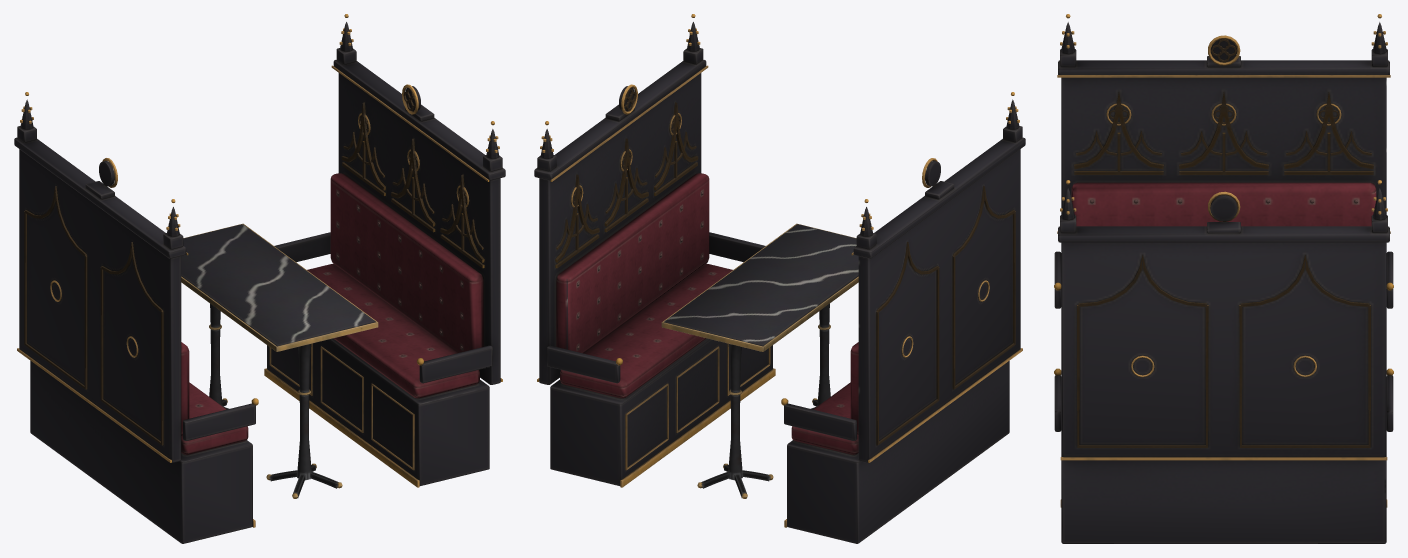
Rendered from CafeBooth.fbx.
3 views of the same model, side by side, from view 1: azimuth 30°, elevation 25°; view 2: azimuth 150°, elevation 25°; view 3: azimuth 270°, elevation 25° (orthographic). The views are drawn at different scales.
Parts seen in each view (by area): view 1: CafeBooth_Main, CafeBooth_Table; view 2: CafeBooth_Main, CafeBooth_Table; view 3: CafeBooth_Main.
Part boxes in pixels (x1,y1,x2,y2): CafeBooth_Main: (14, 14, 505, 543); CafeBooth_Table: (181, 223, 378, 498); CafeBooth_Main: (534, 14, 1025, 543); CafeBooth_Table: (661, 223, 858, 498); CafeBooth_Main: (1054, 14, 1393, 543).
Bounding box in the file's own units: 612 × 599 × 501.
